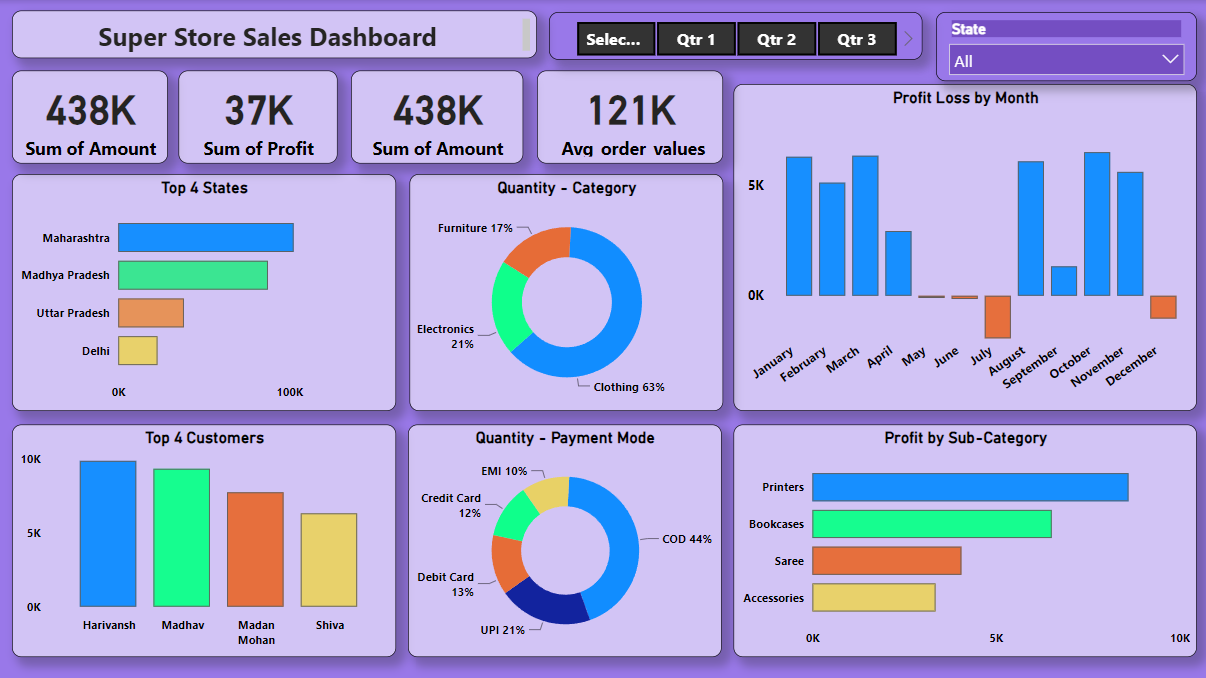

What the dashboard file says about the page in this screenshot:
{"tool":"powerbi","page":{"name":"Page 1","canvas":[1280,720],"ordinal":0},"visuals":[{"type":"columnChart","title":"Profit Loss by Month","fields":{"Y":["Details.Profit"],"Category":["Ordersnew.Order Date.Variation.Date Hierarchy.Month"]},"box":[777.8,89.1,491.5,346.8],"z":0},{"type":"textbox","box":[12.7,11.1,556.7,50.9],"z":1000},{"type":"clusteredBarChart","title":"Top 4 States","fields":{"Category":["Ordersnew.State"],"Y":["Details.Amount"]},"box":[12.7,184.5,407.2,251.3],"z":2000},{"type":"columnChart","title":"Top 4 Customers","fields":{"Category":["Ordersnew.CustomerName"],"Y":["Details.Amount"]},"box":[12.7,450.1,407.2,246.5],"z":3000},{"type":"donutChart","title":"Quantity - Category","fields":{"Y":["Details.Quantity"],"Category":["Details.Category"]},"box":[434.2,184.5,332.4,251.3],"z":4000},{"type":"donutChart","title":"Quantity - Payment Mode","fields":{"Y":["Details.Quantity"],"Category":["Details.PaymentMode"]},"box":[432.6,450.1,332.4,246.5],"z":5000},{"type":"clusteredBarChart","title":"Profit by Sub-Category","fields":{"Category":["Details.Sub-Category"],"Y":["Details.Profit"]},"box":[777.8,450.1,491.5,246.5],"z":6000},{"type":"card","fields":{"Values":["Details.Amount"]},"box":[12.7,74.8,165.4,98.6],"z":7000},{"type":"card","fields":{"Values":["Details.Profit"]},"box":[189.3,74.8,168.6,98.6],"z":8000},{"type":"card","fields":{"Values":["Details.Avg_order_values"]},"box":[569.4,74.8,197.2,98.6],"z":9000},{"type":"card","fields":{"Values":["Details.Quantity"]},"box":[372.2,74.8,182.9,98.6],"z":10000},{"type":"slicer","fields":{"Values":["Ordersnew.Order Date.Variation.Date Hierarchy.Quarter"]},"box":[582.2,12.7,396.1,50.9],"z":11000},{"type":"slicer","fields":{"Values":["Ordersnew.State"]},"box":[992.5,12.7,276.8,73.2],"z":12000}]}

Visuals, with their boxes in screenshot pixels (x1, y1, x2, y2), scaled from the page's 1280x720 canvas onto the 1206x678 screenshot:
"Profit Loss by Month" columnChart: x1=733 y1=84 x2=1196 y2=410
textbox: x1=12 y1=10 x2=536 y2=58
"Top 4 States" clusteredBarChart: x1=12 y1=174 x2=396 y2=410
"Top 4 Customers" columnChart: x1=12 y1=424 x2=396 y2=656
"Quantity - Category" donutChart: x1=409 y1=174 x2=722 y2=410
"Quantity - Payment Mode" donutChart: x1=408 y1=424 x2=721 y2=656
"Profit by Sub-Category" clusteredBarChart: x1=733 y1=424 x2=1196 y2=656
card - Details.Amount: x1=12 y1=70 x2=168 y2=163
card - Details.Profit: x1=178 y1=70 x2=337 y2=163
card - Details.Avg_order_values: x1=536 y1=70 x2=722 y2=163
card - Details.Quantity: x1=351 y1=70 x2=523 y2=163
slicer - Ordersnew.Order Date.Variation.Date Hierarchy.Quarter: x1=549 y1=12 x2=922 y2=60
slicer - Ordersnew.State: x1=935 y1=12 x2=1196 y2=81
